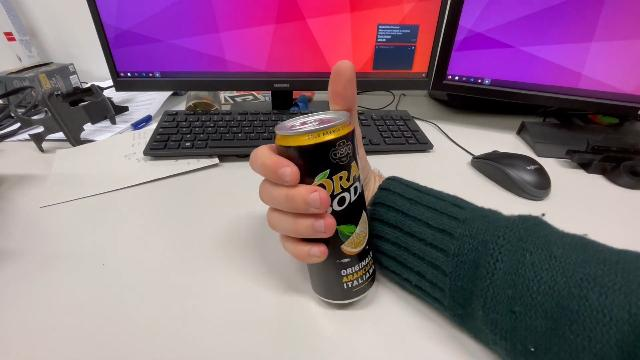OranSoda: (272, 107, 381, 306)
